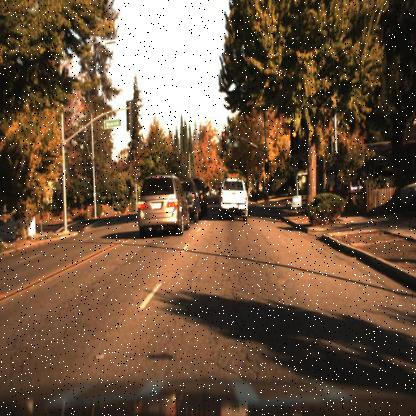car: (134, 172, 194, 233), (216, 175, 252, 220), (180, 178, 201, 226)
trafficLight-Red: (290, 120, 301, 156), (219, 128, 228, 152), (262, 154, 269, 175)
